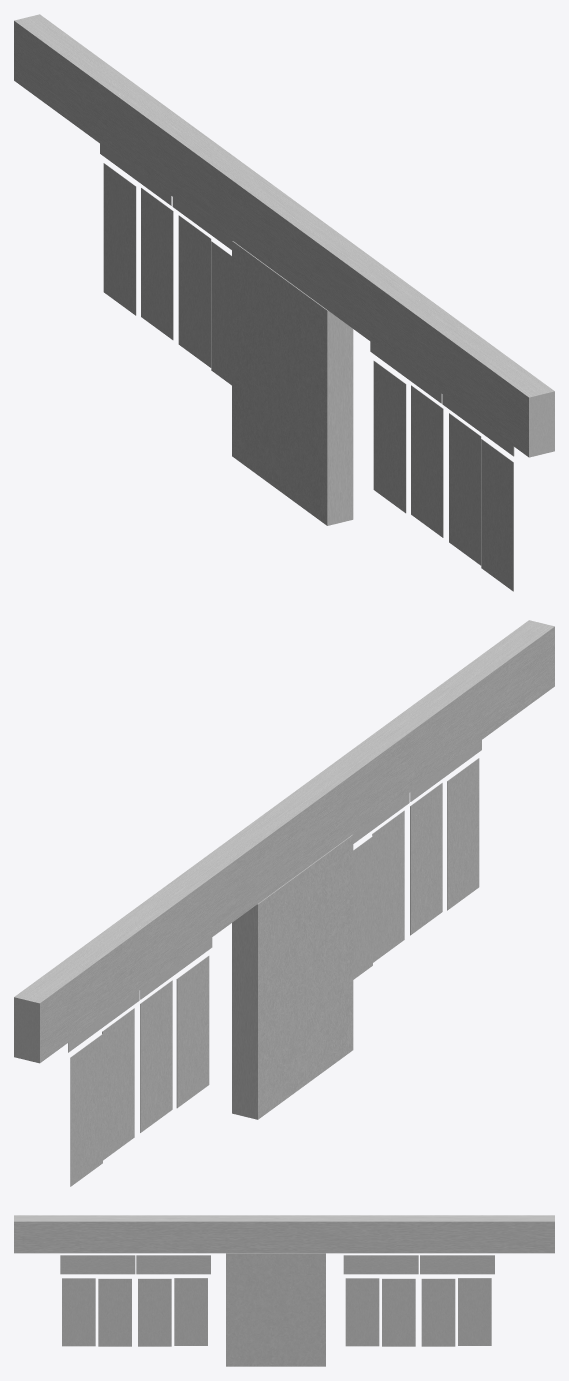
Rendered from doujou_wall_left.obj.
3 renders of one model, top to bottom at view 1: azimuth 30°, elevation 25°; view 2: azimuth 150°, elevation 25°; view 3: azimuth 270°, elevation 25°, orthographic. The views are drawn at different scales.
Parts seen in each view (by area): view 1: 立方体.006; view 2: 立方体.006; view 3: 立方体.006.
Part boxes in pixels (x1=…): 立方体.006: x1=14, y1=14, x2=554, y2=591; 立方体.006: x1=14, y1=620, x2=554, y2=1186; 立方体.006: x1=14, y1=1215, x2=554, y2=1366.
Size of the model in its own units: 20.8 by 169 by 570.
1 material, 1 textured.
